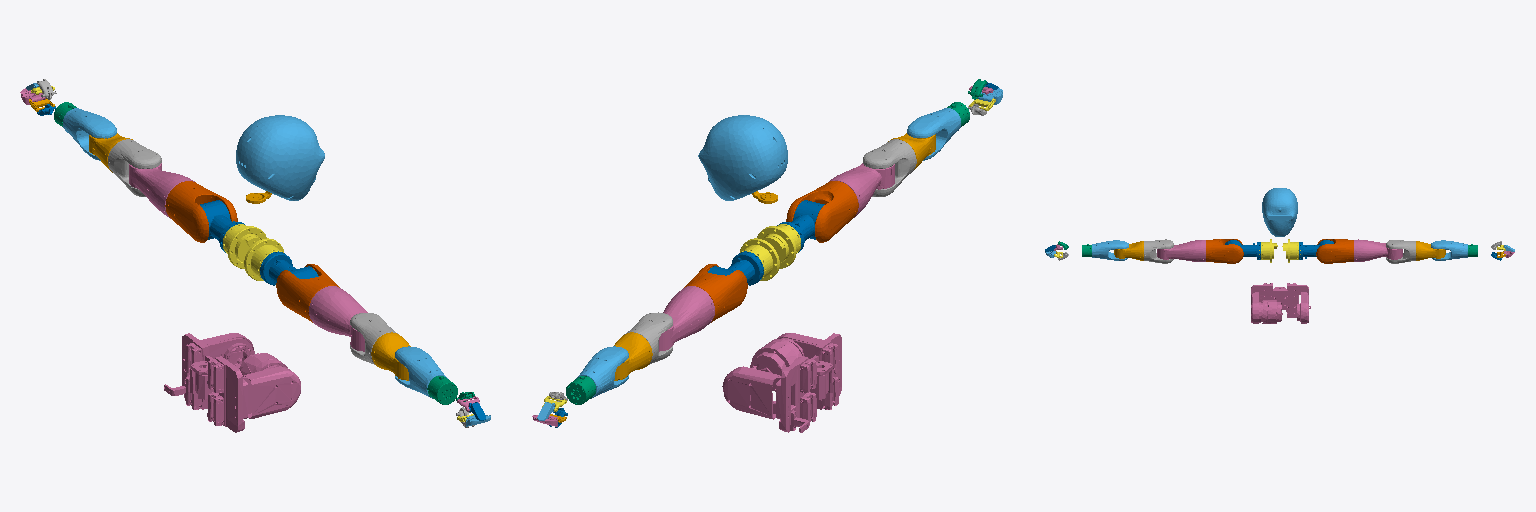
--- What the picture shows (computed from the rendered views, not written in the file) ---
3 views of the same robot in one strip: view 1: azimuth 30°, elevation 25°; view 2: azimuth 150°, elevation 25°; view 3: azimuth 270°, elevation 25° (orthographic).
Model agibot_g1_with_omni-picker with 52 links and 51 joints (33 revolute, 2 continuous, 1 prismatic, 15 fixed), rooted at base_footprint, posed all joints at 0.
Visible links, largest first — view 1: body_link1, head_link2, left_link2, right_link3, right_link2, left_link4, left_link3, left_link6, right_link6, right_link5, left_base_link, right_link4 (+5 smaller); view 2: body_link1, head_link2, right_link2, left_link3, left_link2, right_link4, right_link3, right_link6, left_link6, right_base_link, left_link5, left_link4 (+5 smaller); view 3: body_link1, head_link2, left_link2, right_link2, right_link3, left_link3.
Boxes of the visible links, box(x1,y1,x2,y2) form: body_link1: box(164, 333, 300, 432); head_link2: box(236, 115, 324, 200); left_link2: box(165, 181, 237, 242); right_link3: box(309, 286, 367, 351); right_link2: box(276, 264, 339, 322); left_link4: box(108, 139, 161, 196); left_link3: box(129, 163, 194, 218); left_link6: box(63, 108, 116, 160); right_link6: box(395, 346, 447, 398); right_link5: box(371, 332, 410, 380); left_base_link: box(223, 224, 266, 268); right_link4: box(350, 313, 397, 364); body_link1: box(722, 333, 841, 432); head_link2: box(698, 115, 787, 200); right_link2: box(786, 181, 858, 242); left_link3: box(659, 286, 714, 351); left_link2: box(684, 264, 747, 322); right_link4: box(863, 139, 916, 196); right_link3: box(829, 163, 894, 217); right_link6: box(907, 108, 960, 160); left_link6: box(576, 346, 628, 398); right_base_link: box(757, 224, 800, 268); left_link5: box(614, 332, 652, 380); left_link4: box(624, 312, 672, 364); body_link1: box(1251, 283, 1310, 323); head_link2: box(1262, 188, 1297, 236); left_link2: box(1316, 239, 1353, 263); right_link2: box(1206, 239, 1243, 263); right_link3: box(1157, 240, 1205, 261); left_link3: box(1354, 239, 1402, 261).
Bounding box of the posed robot: 0.3221 × 2.12 × 0.7156 m (x, y, z).
31 mesh visuals loaded from 22 distinct referenced files (17 OBJ); not drawn: 8 (reference not matched to a file when rendering).

URDF robot description (agibot_g1_with_omni-picker):
<?xml version="1.0" ?>
<!-- =================================================================================== -->
<!-- |    This document was autogenerated by xacro from robot_descriptions/agibot_g1_with_gripper_description/agibot_g1_with_omni-picker.xacro | -->
<!-- |    EDITING THIS FILE BY HAND IS NOT RECOMMENDED                                 | -->
<!-- =================================================================================== -->
<robot name="agibot_g1_with_omni-picker">
  <!-- Base links -->
  <link name="base_footprint"/>
  <joint name="base_footprint_joint" type="fixed">
    <origin xyz="0 0 0.211"/>
    <parent link="base_footprint"/>
    <child link="base_link"/>
  </joint>
  <link name="base_link">
    <inertial>
      <origin xyz="-0.00804486971267798 0 -0.120076754329413"/>
      <mass value="65.2085382238952"/>
      <inertia ixx="0.386955641760608" ixy="0.000135417314593726" ixz="0.00669301645720665" iyy="0.366800407621218" iyz="0.000105713634260505" izz="0.546852919828475"/>
    </inertial>
    <visual>
      <geometry>
        <mesh filename="package://agibot_g1_description/meshes/base/base.obj"/>
      </geometry>
    </visual>
    <collision>
      <origin xyz="-0.10913086 0.0 0.5971875"/>
      <geometry>
        <box size="0.29833984 0.3376392 1.0"/>
      </geometry>
    </collision>
    <collision>
      <origin xyz="0.01 0.0 -0.045"/>
      <geometry>
        <box size="0.5796094 0.449 0.27073438"/>
      </geometry>
    </collision>
    <collision>
      <origin xyz="0.22 0.14 -0.175245"/>
      <geometry>
        <sphere radius="0.038"/>
      </geometry>
    </collision>
    <collision>
      <origin xyz="0.22 -0.14 -0.175245"/>
      <geometry>
        <sphere radius="0.038"/>
      </geometry>
    </collision>
    <collision>
      <origin xyz="-0.18 0.14 -0.175245"/>
      <geometry>
        <sphere radius="0.038"/>
      </geometry>
    </collision>
    <collision>
      <origin xyz="-0.18 -0.14 -0.175245"/>
      <geometry>
        <sphere radius="0.038"/>
      </geometry>
    </collision>
  </link>
  <link name="left_wheel">
    <inertial>
      <origin xyz="-5.2736E-16 -0.033322 1.1102E-16"/>
      <mass value="5.8637"/>
      <inertia ixx="0.0051541" ixy="-3.3734E-17" ixz="1.0772E-17" iyy="0.0090798" iyz="5.0454E-18" izz="0.0051541"/>
    </inertial>
    <collision>
      <origin rpy="1.5708 0 0"/>
      <geometry>
        <cylinder length="0.034" radius="0.07948"/>
      </geometry>
    </collision>
  </link>
  <joint name="left_wheel_joint" type="continuous">
    <parent link="base_link"/>
    <child link="left_wheel"/>
    <origin xyz="0.016 0.1865 -0.133845"/>
    <axis xyz="0 1 0"/>
  </joint>
  <link name="scan"/>
  <joint name="scan_joint" type="fixed">
    <parent link="base_link"/>
    <child link="scan"/>
    <origin xyz="0.24 0 0.0145"/>
  </joint>
  <link name="imu"/>
  <joint name="imu_joint" type="fixed">
    <parent link="base_link"/>
    <child link="imu"/>
    <origin xyz="0.016 0 0.0145"/>
  </joint>
  <link name="right_wheel">
    <inertial>
      <origin xyz="-5.2736E-16 -0.033322 1.1102E-16"/>
      <mass value="5.8637"/>
      <inertia ixx="0.0051541" ixy="-3.3734E-17" ixz="1.0772E-17" iyy="0.0090798" iyz="5.0454E-18" izz="0.0051541"/>
    </inertial>
    <collision>
      <origin rpy="1.5708 0 0"/>
      <geometry>
        <cylinder length="0.034" radius="0.07948"/>
      </geometry>
    </collision>
  </link>
  <joint name="right_wheel_joint" type="continuous">
    <parent link="base_link"/>
    <child link="right_wheel"/>
    <origin xyz="0.016 -0.1865 -0.133845"/>
    <axis xyz="0 1 0"/>
  </joint>
  <link name="body_link1">
    <inertial>
      <origin xyz="0.0338351537064605 -0.00248044044451858 0.000838431095422365"/>
      <mass value="3.26275452360108"/>
      <inertia ixx="0.0128301877197417" ixy="8.24967996575627e-06" ixz="1.38254543337324e-05" iyy="0.006104110250297" iyz="-7.99392548994692e-06" izz="0.0111721084996867"/>
    </inertial>
    <visual>
      <geometry>
        <mesh filename="package://agibot_g1_description/meshes/base/body_link1.obj"/>
      </geometry>
    </visual>
    <collision>
      <origin xyz="0.10278320000000002 0.1 -0.013671875"/>
      <geometry>
        <box size="0.16064453 0.05555534399999999 0.1328125"/>
      </geometry>
    </collision>
    <collision>
      <origin xyz="0.10180664 -0.1 0.0"/>
      <geometry>
        <box size="0.16259765999999998 0.04375648500000001 0.16015625"/>
      </geometry>
    </collision>
  </link>
  <link name="body_link2">
    <inertial>
      <origin xyz="-0.000484180179482319 -0.193733558855111 -0.00124011422952511"/>
      <mass value="7.53199207979272"/>
      <inertia ixx="0.0788874639537613" ixy="5.46530938736686E-10" ixz="0.00286825206797472" iyy="0.0515041942141216" iyz="3.46275348004213E-07" izz="0.0448953474115628"/>
    </inertial>
    <visual>
      <geometry>
        <mesh filename="package://agibot_g1_description/meshes/base/body_link2.obj"/>
      </geometry>
      <origin rpy="0.0 0.0 -1.5707963267948966"/>
    </visual>
    <collision>
      <origin xyz="0.0068359375 -0.00034356117 0.0"/>
      <geometry>
        <cylinder length="0.08697056999999997" radius="0.09662318"/>
      </geometry>
    </collision>
    <collision>
      <origin xyz="0.0068359375 -0.00034356117 0.043485284999999985"/>
      <geometry>
        <sphere radius="0.09662318"/>
      </geometry>
    </collision>
    <collision>
      <origin xyz="0.0068359375 -0.00034356117 -0.043485284999999985"/>
      <geometry>
        <sphere radius="0.09662318"/>
      </geometry>
    </collision>
    <collision>
      <origin rpy="0.0 0.0 -1.5708" xyz="0.008 -0.248 0.0"/>
      <geometry>
        <box size="0.34570312 0.18107724 0.3125"/>
      </geometry>
    </collision>
  </link>
  <link name="head_link1">
    <inertial>
      <origin xyz="0.0446068140025754 0.00241753143645124 0.0528373754603559"/>
      <mass value="0.414342871921048"/>
      <inertia ixx="0.000158695728344024" ixy="-1.04590928109554e-06" ixz="-6.58530903139189e-06" iyy="0.000117742864399469" iyz="-2.65011299996072e-06" izz="0.000170947040827065"/>
    </inertial>
    <visual>
      <geometry>
        <mesh filename="package://agibot_g1_description/meshes/base/head_link1.obj"/>
      </geometry>
    </visual>
  </link>
  <link name="head_link2">
    <inertial>
      <origin xyz="0.0257009265816389 0.0316254080188787 -3.77390122592164e-05"/>
      <mass value="0.707063977171202"/>
      <inertia ixx="0.00205409595373573" ixy="0.000347730118005016" ixz="-2.13857752451204e-06" iyy="0.00200357281313449" iyz="5.16150600423908e-08" izz="0.00184999028444405"/>
    </inertial>
    <visual>
      <geometry>
        <mesh filename="package://agibot_g1_description/meshes/base/head_link2.obj"/>
      </geometry>
      <origin rpy="-3.141592653589793 0.0 0.0"/>
    </visual>
    <collision>
      <geometry>
        <sphere radius="0.11257068650657154"/>
      </geometry>
      <origin xyz="0.011500973396434619 -0.0252600143348118 0.0008537154007319386"/>
    </collision>
  </link>
  <!-- Base joints -->
  <joint name="body_joint1" type="prismatic">
    <parent link="base_link"/>
    <child link="body_link1"/>
    <origin xyz="0.0 0.0 0.4285"/>
    <axis xyz="0.0 0.0 1.0"/>
    <limit effort="1000" lower="0.0" upper="0.5" velocity="0.1"/>
  </joint>
  <joint name="body_joint2" type="revolute">
    <parent link="body_link1"/>
    <child link="body_link2"/>
    <origin rpy="-1.5707963267948966 0.0 0.0" xyz="0.131 0.0 0.0"/>
    <axis xyz="0.0 0.0 1.0"/>
    <limit effort="100.0" lower="0.0" upper="1.5707963267948966" velocity="0.5"/>
  </joint>
  <!-- Head joints -->
  <joint name="head_joint1" type="revolute">
    <parent link="body_link2"/>
    <child link="head_link1"/>
    <origin rpy="1.5707963267948966 0.0 0.0" xyz="0.0 -0.441 0.0"/>
    <axis xyz="0.0 0.0 1.0"/>
    <limit effort="50.0" lower="-1.5707963267948966" upper="1.5707963267948966" velocity="1.0"/>
  </joint>
  <joint name="head_joint2" type="revolute">
    <parent link="head_link1"/>
    <child link="head_link2"/>
    <origin rpy="-1.5707963267948966 0.0 0.0" xyz="0.050238 0.0 0.060065"/>
    <axis xyz="0.0 0.0 1.0"/>
    <limit effort="50.0" lower="-0.3490658503988659" upper="0.5235987755982988" velocity="1.0"/>
  </joint>
  <link name="head_camera"/>
  <joint name="head_camera_joint" type="fixed">
    <parent link="head_link2"/>
    <child link="head_camera"/>
    <origin rpy="1.5707963267948966 0 0" xyz="0.103 -0.0421 0.0"/>
  </joint>
  <!-- Arm base link -->
  <link name="left_base_link">
    <inertial>
      <origin xyz="0.00020641 -0.00057488 0.032296"/>
      <mass value="0.37595"/>
      <inertia ixx="0.00024335" ixy="1.2188e-06" ixz="2.4281e-06" iyy="0.00024039" iyz="-6.6932e-06" izz="0.00032195"/>
    </inertial>
    <visual>
      <geometry>
        <mesh filename="package://agibot_g1_description/meshes/arm/base_link.obj"/>
      </geometry>
    </visual>
  </link>
  <!-- Arm links -->
  <link name="left_link1">
    <inertial>
      <origin xyz="0.0012655 -0.00043778 -0.018388"/>
      <mass value="0.4936"/>
      <inertia ixx="0.00075396" ixy="-2.4144e-06" ixz="-1.8364e-06" iyy="0.00065755" iyz="1.2174e-06" izz="0.00031848"/>
    </inertial>
    <visual>
      <geometry>
        <mesh filename="package://agibot_g1_description/meshes/arm/link1.obj"/>
      </geometry>
    </visual>
    <collision>
      <geometry>
        <cylinder length="0.16642063483595848" radius="0.05579268228774888"/>
      </geometry>
      <origin rpy="0.0 0.0 -1.2566370614359172" xyz="0.0026814433577366636 0.0006133775157398935 -0.04071124829351902"/>
    </collision>
  </link>
  <link name="left_link2">
    <inertial>
      <origin xyz="-0.00044207 -0.082298 0.00019486"/>
      <mass value="0.46245"/>
      <inertia ixx="0.00065719" ixy="3.7112e-07" ixz="-3.6668e-06" iyy="0.00043459" iyz="-2.517e-05" izz="0.00072571"/>
    </inertial>
    <visual>
      <geometry>
        <mesh filename="package://agibot_g1_description/meshes/arm/link2.obj"/>
      </geometry>
    </visual>
    <collision>
      <origin rpy="1.5707963267948966 0 0" xyz="0.0 -0.044062052 0.0009765625"/>
      <geometry>
        <cylinder length="0.18085919" radius="0.06302423"/>
      </geometry>
    </collision>
  </link>
  <link name="left_link3">
    <inertial>
      <origin xyz="0.0010558 4.4416e-05 -0.056128"/>
      <mass value="0.50026"/>
      <inertia ixx="0.0013016" ixy="3.1401e-06" ixz="1.4255e-05" iyy="0.001427" iyz="2.4361e-05" izz="0.00033587"/>
    </inertial>
    <visual>
      <geometry>
        <mesh filename="package://agibot_g1_description/meshes/arm/link3.obj"/>
      </geometry>
    </visual>
    <collision>
      <origin xyz="0.0006559932284637068 -2.2628975236450855e-05 -0.07219303026795387"/>
      <geometry>
        <cylinder length="0.22061403840780258" radius="0.05216156143823925"/>
      </geometry>
    </collision>
  </link>
  <link name="left_link4">
    <inertial>
      <origin xyz="2.4212e-05 -0.06248 0.002536"/>
      <mass value="0.27473"/>
      <inertia ixx="0.00029283" ixy="4.5586e-07" ixz="5.8042e-08" iyy="0.00018852" iyz="-1.116e-06" izz="0.00031238"/>
    </inertial>
    <visual>
      <geometry>
        <mesh filename="package://agibot_g1_description/meshes/arm/link4.obj"/>
      </geometry>
    </visual>
    <collision>
      <origin rpy="1.5707963267948966 0 0" xyz="0.0 -0.03817895 -0.0043945312"/>
      <geometry>
        <cylinder length="0.154955404" radius="0.057891708"/>
      </geometry>
    </collision>
  </link>
  <link name="left_link5">
    <inertial>
      <origin xyz="2.6223e-06 -0.00023041 -0.024141"/>
      <mass value="0.25139"/>
      <inertia ixx="0.00023516" ixy="-6.5868e-09" ixz="-1.9428e-08" iyy="0.00028807" iyz="-1.2108e-05" izz="0.00013068"/>
    </inertial>
    <visual>
      <geometry>
        <mesh filename="package://agibot_g1_description/meshes/arm/link5.obj"/>
      </geometry>
    </visual>
    <collision>
      <origin xyz="-0.00022255510134868567 -4.227476414728204e-05 -0.03344946540892124"/>
      <geometry>
        <cylinder length="0.13423806056380272" radius="0.04562028545392604"/>
      </geometry>
    </collision>
  </link>
  <link name="left_link6">
    <inertial>
      <origin xyz="5.0382e-06 -0.086696 0.002556"/>
      <mass value="0.26634"/>
      <inertia ixx="0.00031434" ixy="-1.2113e-09" ixz="1.0011e-07" iyy="0.00014464" iyz="-2.033e-05" izz="0.00032449"/>
    </inertial>
    <visual>
      <geometry>
        <mesh filename="package://agibot_g1_description/meshes/arm/link6.obj"/>
      </geometry>
    </visual>
    <collision>
      <origin rpy="0.0 -1.4835107730827122 -1.56897465223053" xyz="-1.7782549414354032e-05 -0.05507596972928094 -0.0017447156928267265"/>
      <geometry>
        <cylinder length="0.18272488500982115" radius="0.04857149291994264"/>
      </geometry>
    </collision>
  </link>
  <link name="left_end_link">
    <inertial>
      <origin xyz="-7.5134e-05 -0.00024521 -0.016705"/>
      <mass value="0.06158"/>
      <inertia ixx="1.8407e-05" ixy="3.4818e-08" ixz="-3.2902e-09" iyy="1.818e-05" iyz="1.1326e-07" izz="2.8547e-05"/>
    </inertial>
    <visual>
      <geometry>
        <mesh filename="package://agibot_g1_description/meshes/arm/link7.obj"/>
      </geometry>
    </visual>
    <collision>
      <origin rpy="3.141592653589793 -1.2246467991473532e-16 3.141592653589793" xyz="-4.552953707661759e-05 -0.002300474691790042 -0.02249999972991645"/>
      <geometry>
        <cylinder length="0.045999998692423105" radius="0.030799950382754494"/>
      </geometry>
    </collision>
  </link>
  <!-- Arm joints -->
  <joint name="left_joint1" type="revolute">
    <parent link="left_base_link"/>
    <child link="left_link1"/>
    <origin xyz="0.0 0.0 0.1859"/>
    <axis xyz="0.0 0.0 1.0"/>
    <limit effort="60.0" lower="-3.14" upper="3.14" velocity="3.14"/>
  </joint>
  <joint name="left_joint2" type="revolute">
    <parent link="left_link1"/>
    <child link="left_link2"/>
    <origin rpy="-1.5707963267948966 0.0 1.5707963267948966" xyz="0.0 0.0 0.0"/>
    <axis xyz="0.0 0.0 1.0"/>
    <limit effort="60.0" lower="-2.09" upper="1.48" velocity="3.14"/>
  </joint>
  <joint name="left_joint3" type="revolute">
    <parent link="left_link2"/>
    <child link="left_link3"/>
    <origin rpy="-1.5707963267948966 1.5707963267948966 3.141592653589793" xyz="0.0 -0.305 0.0"/>
    <axis xyz="0.0 0.0 1.0"/>
    <limit effort="60.0" lower="-3.10" upper="3.10" velocity="3.14"/>
  </joint>
  <joint name="left_joint4" type="revolute">
    <parent link="left_link3"/>
    <child link="left_link4"/>
    <origin rpy="-1.5707963267948966 0.0 3.141592653589793" xyz="0.0 0.0 0.0"/>
    <axis xyz="0.0 0.0 1.0"/>
    <limit effort="60.0" lower="-1.48" upper="1.48" velocity="3.14"/>
  </joint>
  <joint name="left_joint5" type="revolute">
    <parent link="left_link4"/>
    <child link="left_link5"/>
    <origin rpy="-1.5707963267948966 0.0 -3.141592653589793" xyz="0.0 -0.1975 0.0"/>
    <axis xyz="0.0 0.0 1.0"/>
    <limit effort="30.0" lower="-3.10" upper="3.10" velocity="3.14"/>
  </joint>
  <joint name="left_joint6" type="revolute">
    <parent link="left_link5"/>
    <child link="left_link6"/>
    <origin rpy="-1.5707963267948966 0.0 0.0" xyz="0.0 0.0 0.0"/>
    <axis xyz="0.0 0.0 1.0"/>
    <limit effort="30.0" lower="-1.74" upper="1.74" velocity="3.14"/>
  </joint>
  <joint name="left_joint7" type="revolute">
    <origin rpy="1.5707963267948966 0.0 0.0" xyz="0.0 -0.1805 0.0"/>
    <parent link="left_link6"/>
    <child link="left_end_link"/>
    <axis xyz="0.0 0.0 1.0"/>
    <limit effort="30.0" lower="-3.10" upper="3.10" velocity="3.14"/>
  </joint>
  <!-- Arm base link -->
  <link name="right_base_link">
    <inertial>
      <origin xyz="-0.00020641 0.00057488 0.032296"/>
      <mass value="0.37595"/>
      <inertia ixx="0.00024335" ixy="1.2188e-06" ixz="-2.4281e-06" iyy="0.00024039" iyz="6.6932e-06" izz="0.00032195"/>
    </inertial>
    <visual>
      <geometry>
        <mesh filename="package://agibot_g1_description/meshes/arm/base_link.obj"/>
      </geometry>
    </visual>
  </link>
  <!-- Arm links -->
  <link name="right_link1">
    <inertial>
      <origin xyz="-0.0012655 -0.00043778 -0.018388"/>
      <mass value="0.4936"/>
      <inertia ixx="0.00075396" ixy="2.4144e-06" ixz="1.8364e-06" iyy="0.00065755" iyz="1.2174e-06" izz="0.00031848"/>
    </inertial>
    <visual>
      <geometry>
        <mesh filename="package://agibot_g1_description/meshes/arm/link1.obj"/>
      </geometry>
    </visual>
    <collision>
      <geometry>
        <cylinder length="0.16642063483595848" radius="0.05579268228774888"/>
      </geometry>
      <origin rpy="0.0 0.0 1.2566370614359172" xyz="-0.0026814433577366636 0.0006133775157398935 -0.04071124829351902"/>
    </collision>
  </link>
  <link name="right_link2">
    <inertial>
      <origin xyz="0.00044207 -0.082298 0.00019486"/>
      <mass value="0.46245"/>
      <inertia ixx="0.00065719" ixy="3.7112e-07" ixz="-3.6668e-06" iyy="0.00043459" iyz="-2.517e-05" izz="0.00072571"/>
    </inertial>
    <visual>
      <geometry>
        <mesh filename="package://agibot_g1_description/meshes/arm/link2.obj"/>
      </geometry>
    </visual>
    <collision>
      <origin rpy="1.5707963267948966 0 0" xyz="0.0 -0.044062052 0.0009765625"/>
      <geometry>
        <cylinder length="0.18085919" radius="0.06302423"/>
      </geometry>
    </collision>
  </link>
  <link name="right_link3">
    <inertial>
      <origin xyz="-0.0010558 4.4416e-05 -0.056128"/>
      <mass value="0.50026"/>
      <inertia ixx="0.0013016" ixy="3.1401e-06" ixz="1.4255e-05" iyy="0.001427" iyz="2.4361e-05" izz="0.00033587"/>
    </inertial>
    <visual>
      <geometry>
        <mesh filename="package://agibot_g1_description/meshes/arm/link3.obj"/>
      </geometry>
    </visual>
    <collision>
      <origin xyz="-0.0006559932284637068 -2.2628975236450855e-05 -0.07219303026795387"/>
      <geometry>
        <cylinder length="0.22061403840780258" radius="0.05216156143823925"/>
      </geometry>
    </collision>
  </link>
  <link name="right_link4">
    <inertial>
      <origin xyz="2.4212e-05 -0.06248 0.002536"/>
      <mass value="0.27473"/>
      <inertia ixx="0.00029283" ixy="4.5586e-07" ixz="5.8042e-08" iyy="0.00018852" iyz="-1.116e-06" izz="0.00031238"/>
    </inertial>
    <visual>
      <geometry>
        <mesh filename="package://agibot_g1_description/meshes/arm/link4.obj"/>
      </geometry>
    </visual>
    <collision>
      <origin rpy="1.5707963267948966 0 0" xyz="0.0 -0.03817895 -0.0043945312"/>
      <geometry>
        <cylinder length="0.154955404" radius="0.057891708"/>
      </geometry>
    </collision>
  </link>
  <link name="right_link5">
    <inertial>
      <origin xyz="2.6223e-06 -0.00023041 -0.024141"/>
      <mass value="0.25139"/>
      <inertia ixx="0.00023516" ixy="-6.5868e-09" ixz="-1.9428e-08" iyy="0.00028807" iyz="-1.2108e-05" izz="0.00013068"/>
    </inertial>
    <visual>
      <geometry>
        <mesh filename="package://agibot_g1_description/meshes/arm/link5.obj"/>
      </geometry>
    </visual>
    <collision>
      <origin xyz="0.00022255510134868567 -4.227476414728204e-05 -0.03344946540892124"/>
      <geometry>
        <cylinder length="0.13423806056380272" radius="0.04562028545392604"/>
      </geometry>
    </collision>
  </link>
  <link name="right_link6">
    <inertial>
      <origin xyz="5.0382e-06 -0.086696 0.002556"/>
      <mass value="0.26634"/>
      <inertia ixx="0.00031434" ixy="-1.2113e-09" ixz="1.0011e-07" iyy="0.00014464" iyz="-2.033e-05" izz="0.00032449"/>
    </inertial>
    <visual>
      <geometry>
        <mesh filename="package://agibot_g1_description/meshes/arm/link6.obj"/>
      </geometry>
    </visual>
    <collision>
      <origin rpy="0.0 -1.4835107730827122 -1.56897465223053" xyz="1.7782549414354032e-05 -0.05507596972928094 -0.0017447156928267265"/>
      <geometry>
        <cylinder length="0.18272488500982115" radius="0.04857149291994264"/>
      </geometry>
    </collision>
  </link>
  <link name="right_end_link">
    <inertial>
      <origin xyz="-7.5134e-05 -0.00024521 -0.016705"/>
      <mass value="0.06158"/>
      <inertia ixx="1.8407e-05" ixy="3.4818e-08" ixz="-3.2902e-09" iyy="1.818e-05" iyz="1.1326e-07" izz="2.8547e-05"/>
    </inertial>
    <visual>
      <geometry>
        <mesh filename="package://agibot_g1_description/meshes/arm/link7.obj"/>
      </geometry>
    </visual>
    <collision>
      <origin rpy="3.141592653589793 -1.2246467991473532e-16 3.141592653589793" xyz="-4.552953707661759e-05 -0.002300474691790042 -0.02249999972991645"/>
      <geometry>
        <cylinder length="0.045999998692423105" radius="0.030799950382754494"/>
      </geometry>
    </collision>
  </link>
  <!-- Arm joints -->
  <joint name="right_joint1" type="revolute">
    <parent link="right_base_link"/>
    <child link="right_link1"/>
    <origin xyz="0.0 0.0 0.1859"/>
    <axis xyz="0.0 0.0 -1.0"/>
    <limit effort="60.0" lower="-3.14" upper="3.14" velocity="3.14"/>
  </joint>
  <joint name="right_joint2" type="revolute">
    <parent link="right_link1"/>
    <child link="right_link2"/>
    <origin rpy="-1.5707963267948966 0.0 -1.5707963267948966" xyz="0.0 0.0 0.0"/>
    <axis xyz="0.0 0.0 -1.0"/>
    <limit effort="60.0" lower="-2.09" upper="1.48" velocity="3.14"/>
  </joint>
  <joint name="right_joint3" type="revolute">
    <parent link="right_link2"/>
    <child link="right_link3"/>
    <origin rpy="-1.5707963267948966 -1.5707963267948966 3.141592653589793" xyz="0.0 -0.305 0.0"/>
    <axis xyz="0.0 0.0 -1.0"/>
    <limit effort="60.0" lower="-3.10" upper="3.10" velocity="3.14"/>
  </joint>
  <joint name="right_joint4" type="revolute">
    <parent link="right_link3"/>
    <child link="right_link4"/>
    <origin rpy="-1.5707963267948966 0.0 3.141592653589793" xyz="0.0 0.0 0.0"/>
    <axis xyz="0.0 0.0 -1.0"/>
    <limit effort="60.0" lower="-1.48" upper="1.48" velocity="3.14"/>
  </joint>
  <joint name="right_joint5" type="revolute">
    <parent link="right_link4"/>
    <child link="right_link5"/>
    <origin rpy="-1.5707963267948966 0.0 3.141592653589793" xyz="0.0 -0.1975 0.0"/>
    <axis xyz="0.0 0.0 -1.0"/>
    <limit effort="30.0" lower="-3.10" upper="3.10" velocity="3.14"/>
  </joint>
  <joint name="right_joint6" type="revolute">
    <parent link="right_link5"/>
    <child link="right_link6"/>
    <origin rpy="-1.5707963267948966 0.0 0.0" xyz="0.0 0.0 0.0"/>
    <axis xyz="0.0 0.0 -1.0"/>
    <limit effort="30.0" lower="-1.74" upper="1.74" velocity="3.14"/>
  </joint>
  <joint name="right_joint7" type="revolute">
    <origin rpy="1.5707963267948966 0.0 0.0" xyz="0.0 -0.1805 0.0"/>
    <parent link="right_link6"/>
    <child link="right_end_link"/>
    <axis xyz="0.0 0.0 -1.0"/>
    <limit effort="30.0" lower="-3.10" upper="3.10" velocity="3.14"/>
  </joint>
  <!-- Arm base links -->
  <link name="arm_base"/>
  <!-- Arm base joints -->
  <joint name="arm_base_joint" type="fixed">
    <parent link="body_link2"/>
    <child link="arm_base"/>
    <origin rpy="1.5707963267948966 0.0 0.0" xyz="0.0 -0.305 0.0"/>
  </joint>
  <joint name="left_base_joint" type="fixed">
    <parent link="arm_base"/>
    <child link="left_base_link"/>
    <origin rpy="-1.5707963267948966 0.0 0.0" xyz="0.0 0.025 0.0"/>
  </joint>
  <joint name="right_base_joint" type="fixed">
    <parent link="arm_base"/>
    <child link="right_base_link"/>
    <origin rpy="-1.5707963267948966 0.0 3.141592653589793" xyz="0.0 -0.025 0.0"/>
  </joint>
  <link name="right_eef"/>
  <joint name="right_eef_joint" type="fixed">
    <!-- 根据法兰盘的厚度调整z值，default给个0.015  -->
    <origin xyz="0.0 0.0 0.015"/> 
    <parent link="right_end_link"/>
    <child link="right_eef"/>
  </joint>
  <link name="left_eef"/>
  <joint name="left_eef_joint" type="fixed">
    <origin xyz="0.0 0.0 0.015"/>
    <parent link="left_end_link"/>
    <child link="left_eef"/>
  </joint>
  <!-- <xacro:omni-picker/> -->
  <!-- 3. 展开 G1 本体（base + 双臂 + eef） -->
  <!-- <xacro:agibot_g1_no_gripper/> -->
  <link name="left_gripper_base">
    <inertial>
      <origin xyz="-0.00005520 1.2341E-05 0.03296193"/>
      <mass value="0.25641368"/>
      <inertia ixx="4.6351E-04" ixy="-1.0E-08" ixz="-1.04E-06" iyy="4.4525E-04" iyz="-5.00E-08" izz="1.0438E-04"/>
    </inertial>
    <visual>
      <geometry>
        <mesh filename="./robot_descriptions/agibot_omni_description/meshes/omni_picker/gripper_base.obj"/>
      </geometry>
    </visual>
  </link>
  <link name="left_narrow1_Link">
    <inertial>
      <origin xyz="0.0094685 0.0068806 6.5437E-05"/>
      <mass value="0.025428"/>
      <inertia ixx="1.9574E-06" ixy="-4.2911E-07" ixz="-3.7111E-11" iyy="2.3919E-06" iyz="-3.008E-10" izz="1.5501E-06"/>
    </inertial>
    <visual>
      <geometry>
        <mesh filename="./robot_descriptions/agibot_omni_description/meshes/omni_picker/narrow_1.obj"/>
      </geometry>
    </visual>
    <collision>
      <geometry>
        <mesh filename="./robot_descriptions/agibot_omni_description/meshes/omni_picker/narrow_1.obj"/>
      </geometry>
    </collision>
  </link>
  <joint name="left_gripper_joint" type="revolute">
    <origin rpy="-2.9951 -1.5707963267948966 -0.15964" xyz="0 -0.0195 0.0565"/>
    <parent link="left_gripper_base"/>
    <child link="left_narrow1_Link"/>
    <axis xyz="0 0 1"/>
    <limit effort="50" lower="0" upper="1" velocity="3.141592653589793"/>
  </joint>
  <link name="left_narrow2_Link">
    <inertial>
      <origin xyz="0.0088027 -0.007035 1.6424E-05"/>
      <mass value="0.0040132"/>
      <inertia ixx="1.0307E-07" ixy="5.7851E-08" ixz="9.5801E-11" iyy="1.1385E-07" iyz="-2.81E-11" izz="1.7009E-07"/>
    </inertial>
    <visual>
      <geometry>
        <mesh filename="./robot_descriptions/agibot_omni_description/meshes/omni_picker/narrow_2.obj"/>
      </geometry>
    </visual>
    <collision>
      <geometry>
        <mesh filename="./robot_descriptions/agibot_omni_description/meshes/omni_picker/narrow_2.obj"/>
      </geometry>
    </collision>
  </link>
  <joint name="left_narrow2_joint" type="revolute">
    <origin xyz="0.030852 0.018551 0"/>
    <parent link="left_narrow1_Link"/>
    <child link="left_narrow2_Link"/>
    <axis xyz="0 0 -1"/>
    <limit effort="50" lower="-3.141592653589793" upper="3.141592653589793" velocity="3.141592653589793"/>
    <mimic joint="left_gripper_joint" multiplier="0.02" offset="0"/>
  </joint>
  <link name="left_narrow3_Link">
    <inertial>
      <origin xyz="0.012508 -0.0079729 9.4339E-05"/>
      <mass value="0.018029"/>
      <inertia ixx="1.1403E-06" ixy="5.5159E-07" ixz="-4.0096E-13" iyy="2.5704E-06" iyz="1.0951E-12" izz="2.3252E-06"/>
    </inertial>
    <visual>
      <geometry>
        <mesh filename="./robot_descriptions/agibot_omni_description/meshes/omni_picker/narrow_3.obj"/>
      </geometry>
    </visual>
    <collision>
      <geometry>
        <mesh filename="./robot_descriptions/agibot_omni_description/meshes/omni_picker/narrow_3.obj"/>
      </geometry>
    </collision>
  </link>
  <joint name="left_narrow3_joint" type="revolute">
    <origin xyz="0.018118 -0.01574 0"/>
    <parent link="left_narrow2_Link"/>
    <child link="left_narrow3_Link"/>
    <axis xyz="0 0 -1"/>
    <limit effort="50" lower="-3.141592653589793" upper="3.141592653589793" velocity="3.141592653589793"/>
    <mimic joint="left_gripper_joint" multiplier="0.4" offset="0"/>
  </joint>
  <link name="left_narrow4_Link"/>
  <joint name="left_narrow4_joint" type="fixed">
    <origin xyz="0 -0.0104 0"/>
    <parent link="left_narrow3_Link"/>
    <child link="left_narrow4_Link"/>
    <axis xyz="0 0 1"/>
    <limit effort="50" lower="-3.141592653589793" upper="3.141592653589793" velocity="3.141592653589793"/>
  </joint>
  <link name="left_narrow_loop_Link">
    <inertial>
      <origin xyz="0.014869 -0.0036066 0.00029307"/>
      <mass value="0.022591"/>
      <inertia ixx="4.3916E-06" ixy="1.114E-07" ixz="-4.9655E-12" iyy="4.737E-06" iyz="1.7121E-11" izz="6.0445E-07"/>
    </inertial>
    <visual>
      <geometry>
        <mesh filename="./robot_descriptions/agibot_omni_description/meshes/omni_picker/narrow_loop.obj"/>
      </geometry>
    </visual>
    <collision>
      <geometry>
        <mesh filename="./robot_descriptions/agibot_omni_description/meshes/omni_picker/narrow_loop.obj"/>
      </geometry>
    </collision>
  </link>
  <joint name="left_narrow_loop_joint" type="revolute">
    <origin rpy="-2.9951 -1.5707963267948966 -0.15964" xyz="0 -0.021633 0.07387"/>
    <parent link="left_gripper_base"/>
    <child link="left_narrow_loop_Link"/>
    <axis xyz="0 0 1"/>
    <limit effort="50" lower="-3.141592653589793" upper="3.141592653589793" velocity="3.141592653589793"/>
    <mimic joint="left_gripper_joint" multiplier="1.5" offset="0"/>
  </joint>
  <link name="left_wide1_Link">
    <inertial>
      <origin xyz="0.0095051 -0.0068479 6.8268E-05"/>
      <mass value="0.025428"/>
      <inertia ixx="1.9565E-06" ixy="4.2798E-07" ixz="2.3844E-10" iyy="2.3928E-06" iyz="-1.4454E-10" izz="1.5501E-06"/>
    </inertial>
    <visual>
      <geometry>
        <mesh filename="./robot_descriptions/agibot_omni_description/meshes/omni_picker/wide_1.obj"/>
      </geometry>
    </visual>
    <collision>
      <geometry>
        <mesh filename="./robot_descriptions/agibot_omni_description/meshes/omni_picker/wide_1.obj"/>
      </geometry>
    </collision>
  </link>
  <joint name="left_wide1_joint" type="revolute">
    <origin rpy="-2.9951 -1.5707963267948966 -0.15964" xyz="0 0.0195 0.0565"/>
    <parent link="left_gripper_base"/>
    <child link="left_wide1_Link"/>
    <axis xyz="0 0 -1"/>
    <limit effort="50" lower="-3.141592653589793" upper="3.141592653589793" velocity="3.141592653589793"/>
    <mimic joint="left_gripper_joint" multiplier="1" offset="0"/>
  </joint>
  <link name="left_wide2_Link">
    <inertial>
      <origin xyz="0.0088027 0.007035 -1.6424E-05"/>
      <mass value="0.0040132"/>
      <inertia ixx="1.0307E-07" ixy="-5.7851E-08" ixz="-9.58E-11" iyy="1.1385E-07" iyz="-2.81E-11" izz="1.7009E-07"/>
    </inertial>
    <visual>
      <geometry>
        <mesh filename="./robot_descriptions/agibot_omni_description/meshes/omni_picker/wide_2.obj"/>
      </geometry>
    </visual>
    <collision>
      <geometry>
        <mesh filename="./robot_descriptions/agibot_omni_description/meshes/omni_picker/wide_2.obj"/>
      </geometry>
    </collision>
  </link>
  <joint name="left_wide2_joint" type="revolute">
    <origin xyz="0.030852 -0.018551 0"/>
    <parent link="left_wide1_Link"/>
    <child link="left_wide2_Link"/>
    <axis xyz="0 0 1"/>
    <limit effort="50" lower="-3.141592653589793" upper="3.141592653589793" velocity="3.141592653589793"/>
    <mimic joint="left_gripper_joint" multiplier="0.02" offset="0"/>
  </joint>
  <link name="left_wide3_Link">
    <inertial>
      <origin xyz="0.016206 0.0094593 4.7668E-05"/>
      <mass value="0.035835"/>
      <inertia ixx="8.5056E-06" ixy="-1.1363E-06" ixz="-4.2908E-11" iyy="1.1235E-05" iyz="-2.9251E-11" izz="4.6309E-06"/>
    </inertial>
    <visual>
      <geometry>
        <mesh filename="./robot_descriptions/agibot_omni_description/meshes/omni_picker/wide_3.obj"/>
      </geometry>
    </visual>
    <collision>
      <geometry>
        <mesh filename="./robot_descriptions/agibot_omni_description/meshes/omni_picker/wide_3.obj"/>
      </geometry>
    </collision>
  </link>
  <joint name="left_wide3_joint" type="revolute">
    <origin xyz="0.018118 0.01574 0"/>
    <parent link="left_wide2_Link"/>
    <child link="left_wide3_Link"/>
    <axis xyz="0 0 1"/>
    <limit effort="50" lower="-3.141592653589793" upper="3.141592653589793" velocity="3.141592653589793"/>
    <mimic joint="left_gripper_joint" multiplier="0.4" offset="0"/>
  </joint>
  <link name="left_wide4_Link"/>
  <joint name="left_wide4_joint" type="fixed">
    <origin xyz="0 0.0104 0"/>
    <parent link="left_wide3_Link"/>
    <child link="left_wide4_Link"/>
  </joint>
  <link name="left_wide_loop_Link">
    <inertial>
      <origin xyz="0.016268 0.0040555 0.00030323"/>
      <mass value="0.025142"/>
      <inertia ixx="5.887E-06" ixy="-1.1234E-07" ixz="2.1954E-11" iyy="6.236E-06" iyz="-9.473E-12" izz="6.2389E-07"/>
    </inertial>
    <visual>
      <geometry>
        <mesh filename="./robot_descriptions/agibot_omni_description/meshes/omni_picker/wide_loop.obj"/>
      </geometry>
    </visual>
    <collision>
      <geometry>
        <mesh filename="./robot_descriptions/agibot_omni_description/meshes/omni_picker/wide_loop.obj"/>
      </geometry>
    </collision>
  </link>
  <joint name="left_wide_loop_joint" type="revolute">
    <origin rpy="-2.9951 -1.5707963267948966 -0.15964" xyz="0 0.021633 0.07387"/>
    <parent link="left_gripper_base"/>
    <child link="left_wide_loop_Link"/>
    <axis xyz="0 0 -1"/>
    <limit effort="50" lower="-3.141592653589793" upper="3.141592653589793" velocity="3.141592653589793"/>
    <mimic joint="left_gripper_joint" multiplier="1.5" offset="0"/>
  </joint>
  <link name="right_gripper_base">
    <inertial>
      <origin xyz="-0.00005520 1.2341E-05 0.03296193"/>
      <mass value="0.25641368"/>
      <inertia ixx="4.6351E-04" ixy="-1.0E-08" ixz="-1.04E-06" iyy="4.4525E-04" iyz="-5.00E-08" izz="1.0438E-04"/>
    </inertial>
    <visual>
      <geometry>
        <mesh filename="./robot_descriptions/agibot_omni_description/meshes/omni_picker/gripper_base.obj"/>
      </geometry>
    </visual>
  </link>
  <link name="right_narrow1_Link">
    <inertial>
      <origin xyz="0.0094685 0.0068806 6.5437E-05"/>
      <mass value="0.025428"/>
      <inertia ixx="1.9574E-06" ixy="-4.2911E-07" ixz="-3.7111E-11" iyy="2.3919E-06" iyz="-3.008E-10" izz="1.5501E-06"/>
    </inertial>
    <visual>
      <geometry>
        <mesh filename="./robot_descriptions/agibot_omni_description/meshes/omni_picker/narrow_1.obj"/>
      </geometry>
    </visual>
    <collision>
      <geometry>
        <mesh filename="./robot_descriptions/agibot_omni_description/meshes/omni_picker/narrow_1.obj"/>
      </geometry>
    </collision>
  </link>
  <joint name="right_gripper_joint" type="revolute">
    <origin rpy="-2.9951 -1.5707963267948966 -0.15964" xyz="0 -0.0195 0.0565"/>
    <parent link="right_gripper_base"/>
    <child link="right_narrow1_Link"/>
    <axis xyz="0 0 1"/>
    <limit effort="50" lower="0" upper="1" velocity="3.141592653589793"/>
  </joint>
  <link name="right_narrow2_Link">
    <inertial>
      <origin xyz="0.0088027 -0.007035 1.6424E-05"/>
      <mass value="0.0040132"/>
      <inertia ixx="1.0307E-07" ixy="5.7851E-08" ixz="9.5801E-11" iyy="1.1385E-07" iyz="-2.81E-11" izz="1.7009E-07"/>
    </inertial>
    <visual>
      <geometry>
        <mesh filename="./robot_descriptions/agibot_omni_description/meshes/omni_picker/narrow_2.obj"/>
      </geometry>
    </visual>
    <collision>
      <geometry>
        <mesh filename="./robot_descriptions/agibot_omni_description/meshes/omni_picker/narrow_2.obj"/>
      </geometry>
    </collision>
  </link>
  <joint name="right_narrow2_joint" type="revolute">
    <origin xyz="0.030852 0.018551 0"/>
    <parent link="right_narrow1_Link"/>
    <child link="right_narrow2_Link"/>
    <axis xyz="0 0 -1"/>
    <limit effort="50" lower="-3.141592653589793" upper="3.141592653589793" velocity="3.141592653589793"/>
    <mimic joint="right_gripper_joint" multiplier="0.02" offset="0"/>
  </joint>
  <link name="right_narrow3_Link">
    <inertial>
      <origin xyz="0.012508 -0.0079729 9.4339E-05"/>
      <mass value="0.018029"/>
      <inertia ixx="1.1403E-06" ixy="5.5159E-07" ixz="-4.0096E-13" iyy="2.5704E-06" iyz="1.0951E-12" izz="2.3252E-06"/>
    </inertial>
    <visual>
      <geometry>
        <mesh filename="./robot_descriptions/agibot_omni_description/meshes/omni_picker/narrow_3.obj"/>
      </geometry>
    </visual>
    <collision>
      <geometry>
        <mesh filename="./robot_descriptions/agibot_omni_description/meshes/omni_picker/narrow_3.obj"/>
      </geometry>
    </collision>
  </link>
  <joint name="right_narrow3_joint" type="revolute">
    <origin xyz="0.018118 -0.01574 0"/>
    <parent link="right_narrow2_Link"/>
    <child link="right_narrow3_Link"/>
    <axis xyz="0 0 -1"/>
    <limit effort="50" lower="-3.141592653589793" upper="3.141592653589793" velocity="3.141592653589793"/>
    <mimic joint="right_gripper_joint" multiplier="0.4" offset="0"/>
  </joint>
  <link name="right_narrow4_Link"/>
  <joint name="right_narrow4_joint" type="fixed">
    <origin xyz="0 -0.0104 0"/>
    <parent link="right_narrow3_Link"/>
    <child link="right_narrow4_Link"/>
    <axis xyz="0 0 1"/>
    <limit effort="50" lower="-3.141592653589793" upper="3.141592653589793" velocity="3.141592653589793"/>
  </joint>
  <link name="right_narrow_loop_Link">
    <inertial>
      <origin xyz="0.014869 -0.0036066 0.00029307"/>
      <mass value="0.022591"/>
      <inertia ixx="4.3916E-06" ixy="1.114E-07" ixz="-4.9655E-12" iyy="4.737E-06" iyz="1.7121E-11" izz="6.0445E-07"/>
    </inertial>
    <visual>
      <geometry>
        <mesh filename="./robot_descriptions/agibot_omni_description/meshes/omni_picker/narrow_loop.obj"/>
      </geometry>
    </visual>
    <collision>
      <geometry>
        <mesh filename="./robot_descriptions/agibot_omni_description/meshes/omni_picker/narrow_loop.obj"/>
      </geometry>
    </collision>
  </link>
  <joint name="right_narrow_loop_joint" type="revolute">
    <origin rpy="-2.9951 -1.5707963267948966 -0.15964" xyz="0 -0.021633 0.07387"/>
    <parent link="right_gripper_base"/>
    <child link="right_narrow_loop_Link"/>
    <axis xyz="0 0 1"/>
    <limit effort="50" lower="-3.141592653589793" upper="3.141592653589793" velocity="3.141592653589793"/>
    <mimic joint="right_gripper_joint" multiplier="1.5" offset="0"/>
  </joint>
  <link name="right_wide1_Link">
    <inertial>
      <origin xyz="0.0095051 -0.0068479 6.8268E-05"/>
      <mass value="0.025428"/>
      <inertia ixx="1.9565E-06" ixy="4.2798E-07" ixz="2.3844E-10" iyy="2.3928E-06" iyz="-1.4454E-10" izz="1.5501E-06"/>
    </inertial>
    <visual>
      <geometry>
        <mesh filename="./robot_descriptions/agibot_omni_description/meshes/omni_picker/wide_1.obj"/>
      </geometry>
    </visual>
    <collision>
      <geometry>
        <mesh filename="./robot_descriptions/agibot_omni_description/meshes/omni_picker/wide_1.obj"/>
      </geometry>
    </collision>
  </link>
  <joint name="right_wide1_joint" type="revolute">
    <origin rpy="-2.9951 -1.5707963267948966 -0.15964" xyz="0 0.0195 0.0565"/>
    <parent link="right_gripper_base"/>
    <child link="right_wide1_Link"/>
    <axis xyz="0 0 -1"/>
    <limit effort="50" lower="-3.141592653589793" upper="3.141592653589793" velocity="3.141592653589793"/>
    <mimic joint="right_gripper_joint" multiplier="1" offset="0"/>
  </joint>
  <link name="right_wide2_Link">
    <inertial>
      <origin xyz="0.0088027 0.007035 -1.6424E-05"/>
      <mass value="0.0040132"/>
      <inertia ixx="1.0307E-07" ixy="-5.7851E-08" ixz="-9.58E-11" iyy="1.1385E-07" iyz="-2.81E-11" izz="1.7009E-07"/>
    </inertial>
    <visual>
      <geometry>
        <mesh filename="./robot_descriptions/agibot_omni_description/meshes/omni_picker/wide_2.obj"/>
      </geometry>
    </visual>
    <collision>
      <geometry>
        <mesh filename="./robot_descriptions/agibot_omni_description/meshes/omni_picker/wide_2.obj"/>
      </geometry>
    </collision>
  </link>
  <joint name="right_wide2_joint" type="revolute">
    <origin xyz="0.030852 -0.018551 0"/>
    <parent link="right_wide1_Link"/>
    <child link="right_wide2_Link"/>
    <axis xyz="0 0 1"/>
    <limit effort="50" lower="-3.141592653589793" upper="3.141592653589793" velocity="3.141592653589793"/>
    <mimic joint="right_gripper_joint" multiplier="0.02" offset="0"/>
  </joint>
  <link name="right_wide3_Link">
    <inertial>
      <origin xyz="0.016206 0.0094593 4.7668E-05"/>
      <mass value="0.035835"/>
      <inertia ixx="8.5056E-06" ixy="-1.1363E-06" ixz="-4.2908E-11" iyy="1.1235E-05" iyz="-2.9251E-11" izz="4.6309E-06"/>
    </inertial>
    <visual>
      <geometry>
        <mesh filename="./robot_descriptions/agibot_omni_description/meshes/omni_picker/wide_3.obj"/>
      </geometry>
    </visual>
    <collision>
      <geometry>
        <mesh filename="./robot_descriptions/agibot_omni_description/meshes/omni_picker/wide_3.obj"/>
      </geometry>
    </collision>
  </link>
  <joint name="right_wide3_joint" type="revolute">
    <origin xyz="0.018118 0.01574 0"/>
    <parent link="right_wide2_Link"/>
    <child link="right_wide3_Link"/>
    <axis xyz="0 0 1"/>
    <limit effort="50" lower="-3.141592653589793" upper="3.141592653589793" velocity="3.141592653589793"/>
    <mimic joint="right_gripper_joint" multiplier="0.4" offset="0"/>
  </joint>
  <link name="right_wide4_Link"/>
  <joint name="right_wide4_joint" type="fixed">
    <origin xyz="0 0.0104 0"/>
    <parent link="right_wide3_Link"/>
    <child link="right_wide4_Link"/>
  </joint>
  <link name="right_wide_loop_Link">
    <inertial>
      <origin xyz="0.016268 0.0040555 0.00030323"/>
      <mass value="0.025142"/>
      <inertia ixx="5.887E-06" ixy="-1.1234E-07" ixz="2.1954E-11" iyy="6.236E-06" iyz="-9.473E-12" izz="6.2389E-07"/>
    </inertial>
    <visual>
      <geometry>
        <mesh filename="./robot_descriptions/agibot_omni_description/meshes/omni_picker/wide_loop.obj"/>
      </geometry>
    </visual>
    <collision>
      <geometry>
        <mesh filename="./robot_descriptions/agibot_omni_description/meshes/omni_picker/wide_loop.obj"/>
      </geometry>
    </collision>
  </link>
  <joint name="right_wide_loop_joint" type="revolute">
    <origin rpy="-2.9951 -1.5707963267948966 -0.15964" xyz="0 0.021633 0.07387"/>
    <parent link="right_gripper_base"/>
    <child link="right_wide_loop_Link"/>
    <axis xyz="0 0 -1"/>
    <limit effort="50" lower="-3.141592653589793" upper="3.141592653589793" velocity="3.141592653589793"/>
    <mimic joint="right_gripper_joint" multiplier="1.5" offset="0"/>
  </joint>
  <!-- 5. 挂载夹爪到 eef（根据你 URDF 里的 link 名） -->
  <!-- 左臂：left_eef → left_gripper_base -->
  <joint name="left_gripper_mount" type="fixed">
    <parent link="left_eef"/>
    <!-- 来自 G1 URDF -->
    <child link="left_gripper_base"/>
    <!-- 来自 omni-picker (name="left") -->
    <!-- 先用 0,0,0 debug，之后再调 offset / rpy -->
    <origin rpy="0 0 0" xyz="0 0 0"/>
  </joint>
  <!-- 右臂：right_eef → right_gripper_base -->
  <joint name="right_gripper_mount" type="fixed">
    <parent link="right_eef"/>
    <child link="right_gripper_base"/>
    <!-- 如果左右朝向需要对称，可以这里加一个 yaw=π 之类 -->
    <origin rpy="0 0 0" xyz="0 0 0"/>
  </joint>
</robot>
